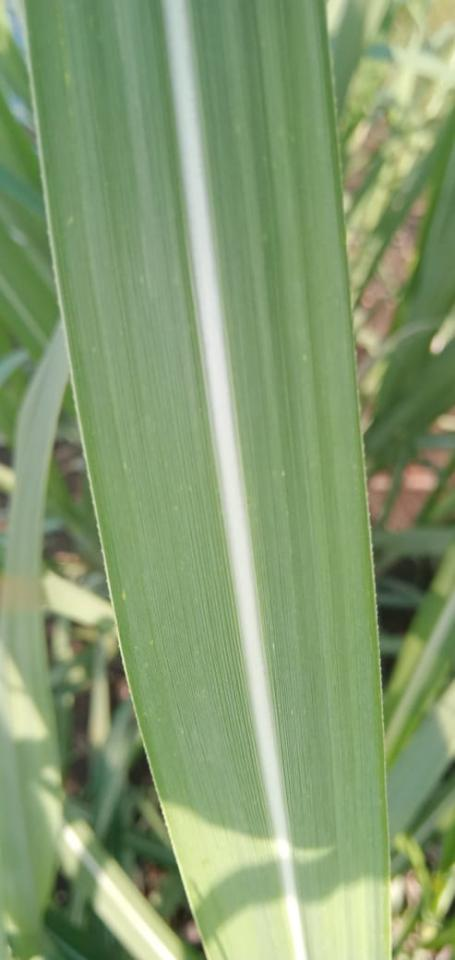Healthy: (26, 0, 390, 959)
